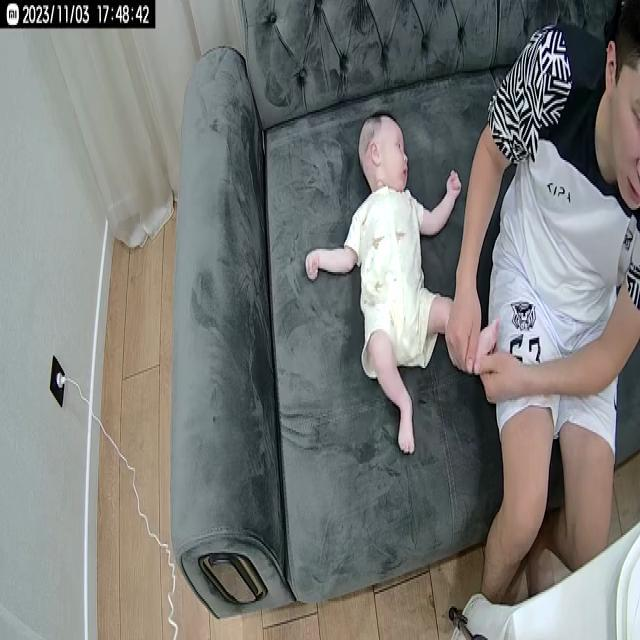baby: (299, 109, 500, 455)
